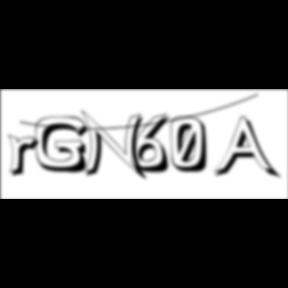0: (170, 115, 216, 174)
6: (132, 112, 178, 176)
A: (214, 116, 282, 182)
G: (36, 116, 94, 176)
N: (81, 109, 151, 183)
r: (8, 134, 46, 180)
